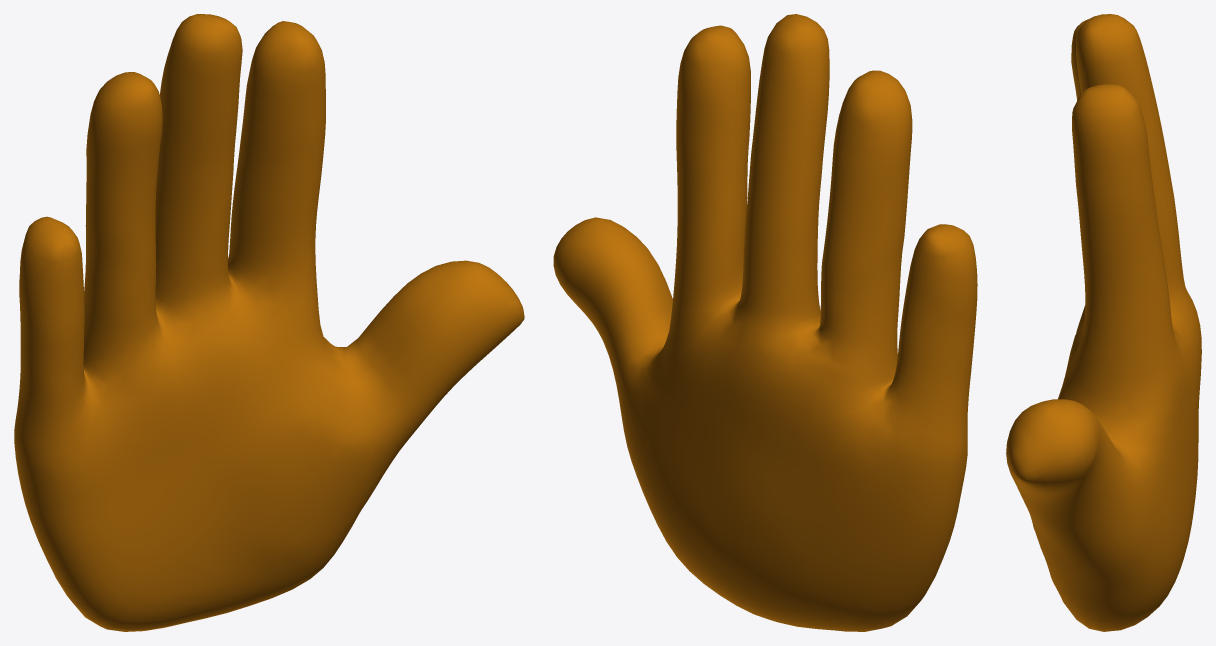
Rendered from STOP.FBX.
3 views of the same model, side by side, from view 1: azimuth 30°, elevation 25°; view 2: azimuth 150°, elevation 25°; view 3: azimuth 270°, elevation 25° (orthographic). The views are drawn at different scales.
Visible parts, largest first — view 1: HAND; view 2: HAND; view 3: HAND.
Part boxes in pixels (bbox=[...]): HAND: bbox=[14, 14, 524, 631]; HAND: bbox=[553, 14, 977, 631]; HAND: bbox=[1006, 14, 1201, 631].
Size of the model in its own units: 12.37 by 15.62 by 4.7.
